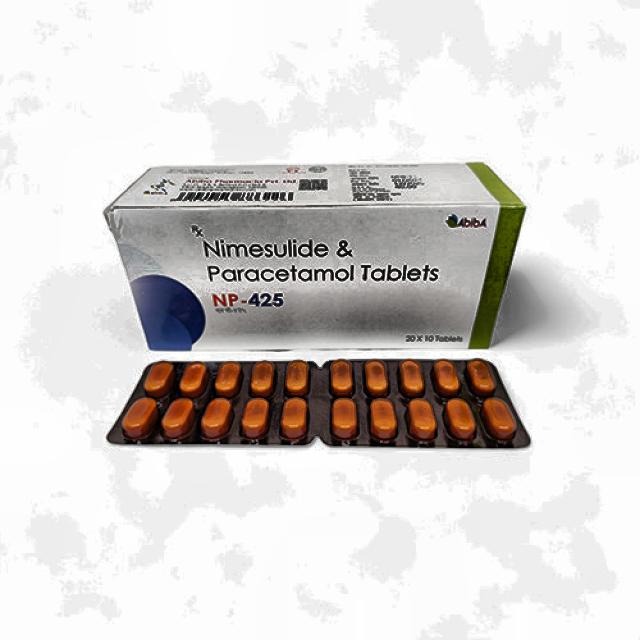Paracetamol: (191, 233, 461, 320)
